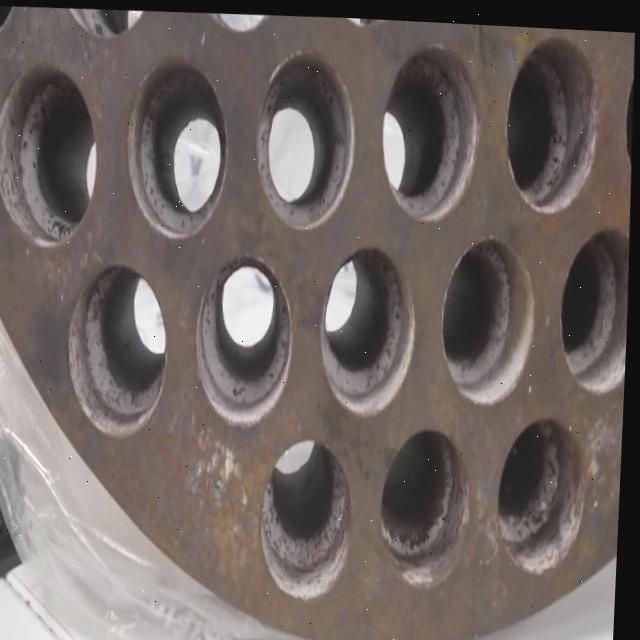Hole: (123, 51, 233, 239), (252, 42, 360, 230), (377, 37, 485, 221), (65, 259, 175, 439), (0, 60, 102, 249), (194, 248, 299, 427), (502, 27, 603, 211), (318, 237, 422, 415), (439, 227, 542, 402), (258, 433, 359, 600), (381, 419, 478, 587), (497, 409, 593, 572), (558, 217, 633, 389)
